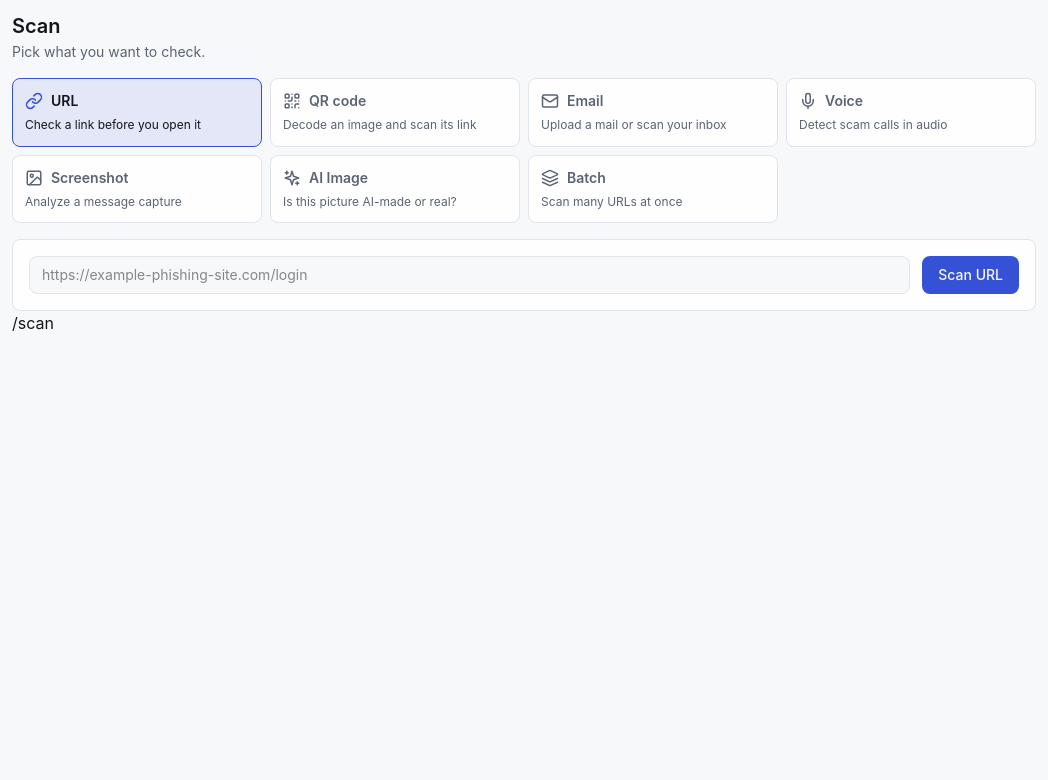
renders a compact embedded-links table when the response carries scanned_links
In the field named "url to scan": [470, 275] box [29,256,910,294], type "https://example.com"
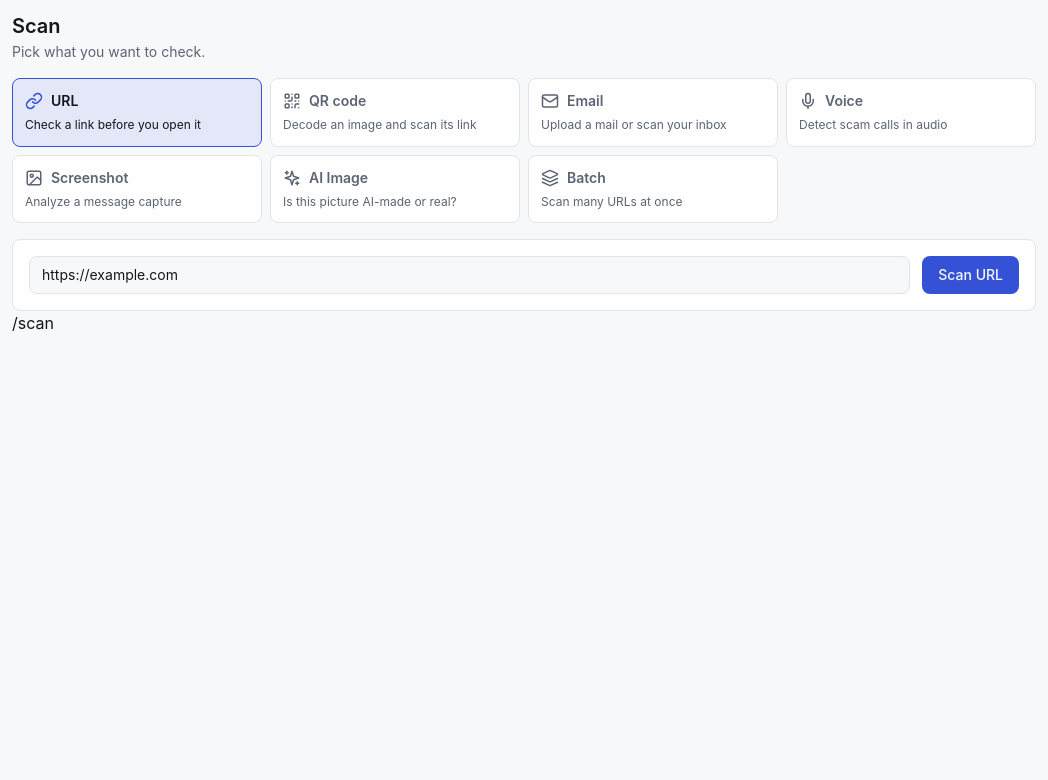
Click the button "Scan URL": [971, 275] box [922,256,1019,294]
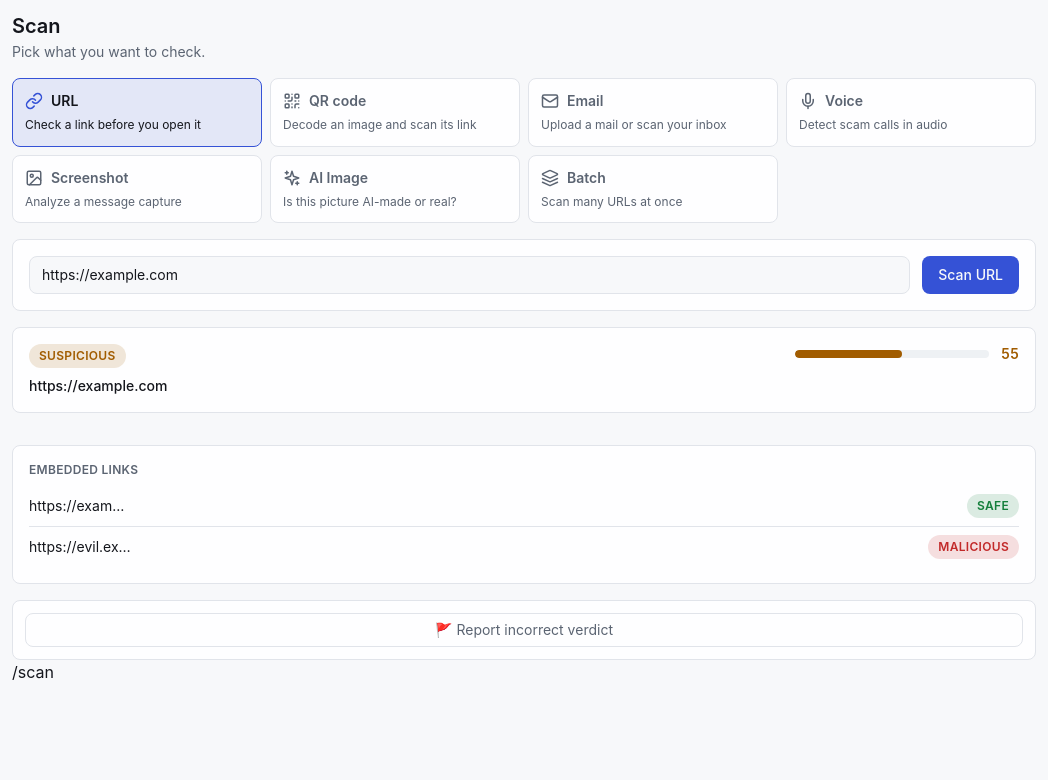
Expected: the text "https://example.com/a" is shown, [29,486,145,526]
Expected: the text "https://evil.example/b" is shown, [29,526,145,567]
